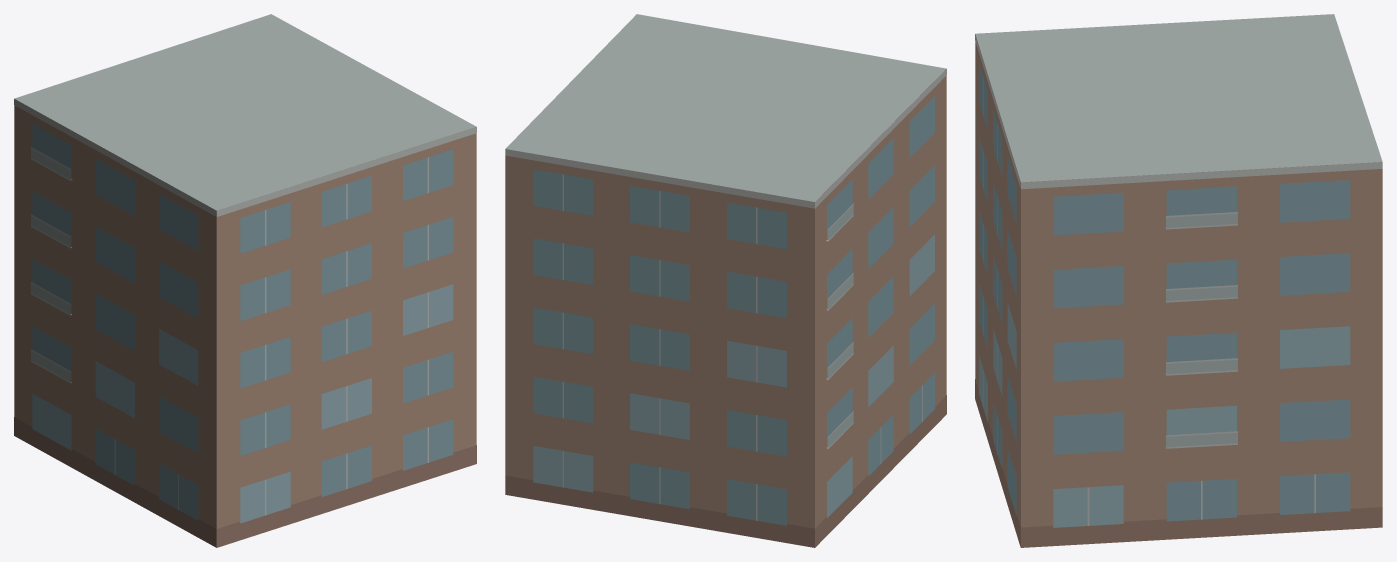
Rendered from survey-upis-32608124.glb.
The picture shows the model from 3 angles, left to right: view 1: azimuth 30°, elevation 25°; view 2: azimuth 150°, elevation 25°; view 3: azimuth 270°, elevation 25°; orthographic projection. The views are drawn at different scales.
Parts seen in each view (by area): view 1: survey-upis-32608124.tmp; view 2: survey-upis-32608124.tmp; view 3: survey-upis-32608124.tmp.
Part boxes in pixels (x1,y1,x2,y2): survey-upis-32608124.tmp: (14, 14, 476, 547); survey-upis-32608124.tmp: (505, 14, 946, 547); survey-upis-32608124.tmp: (975, 14, 1382, 547).
Size of the model in its own units: 12.75 by 12.9 by 13.04.
